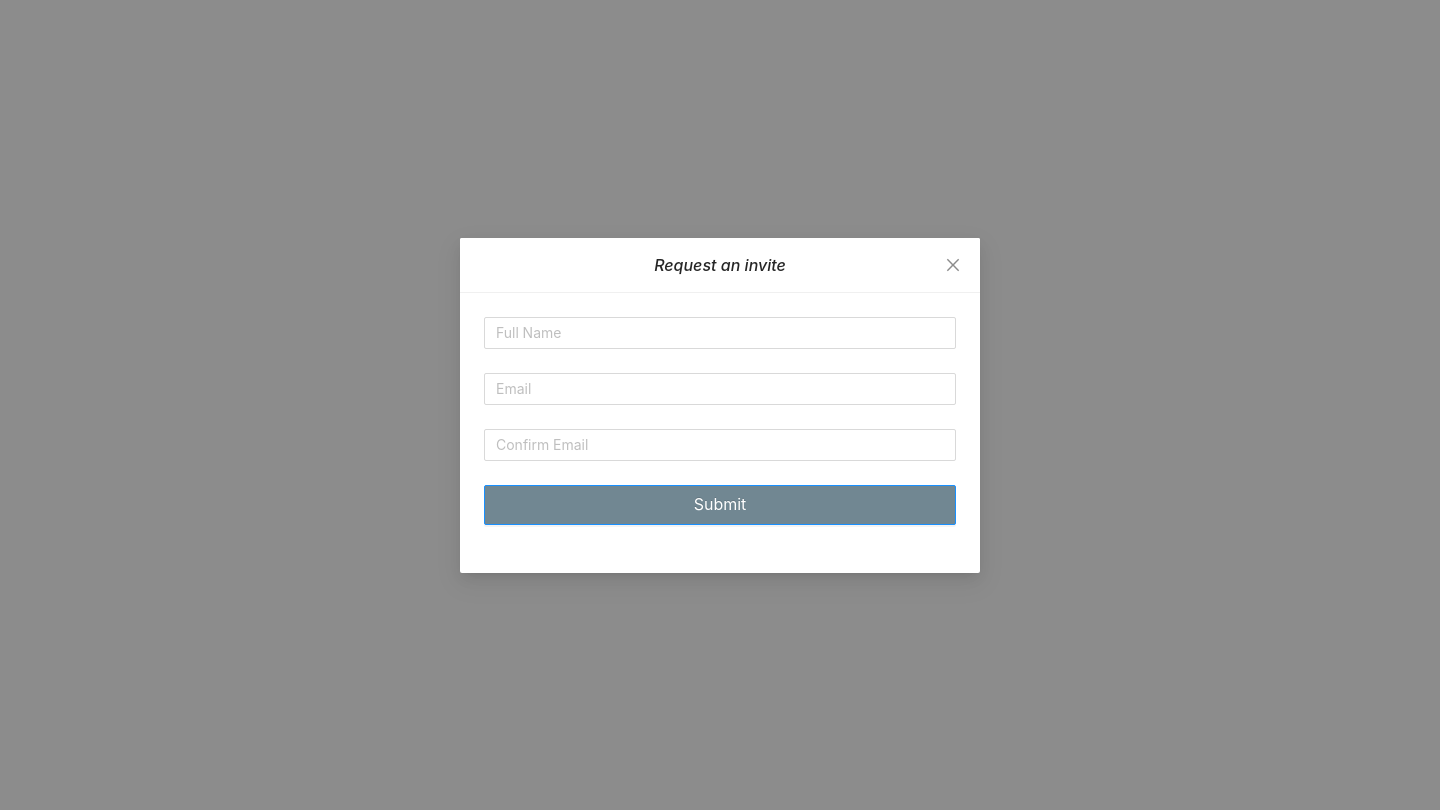
it: From Modal test › error message display - invalid name
Type "mockName" into the field with test id "fullname-input" at (720,332), box [484,316,956,348]
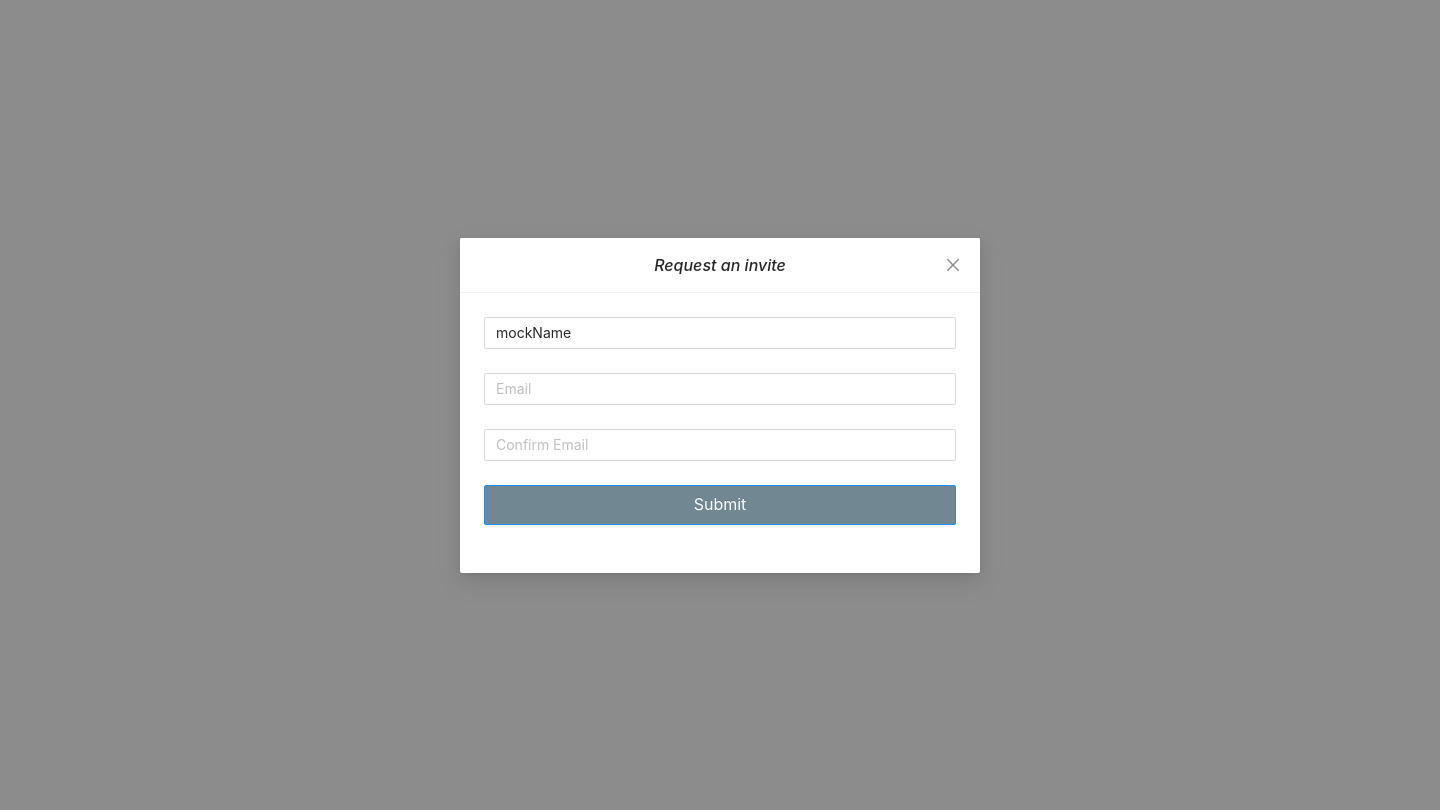
Type "mockEmailA@email.com" into the field with test id "email-input" at (720,388), box [484,372,956,404]
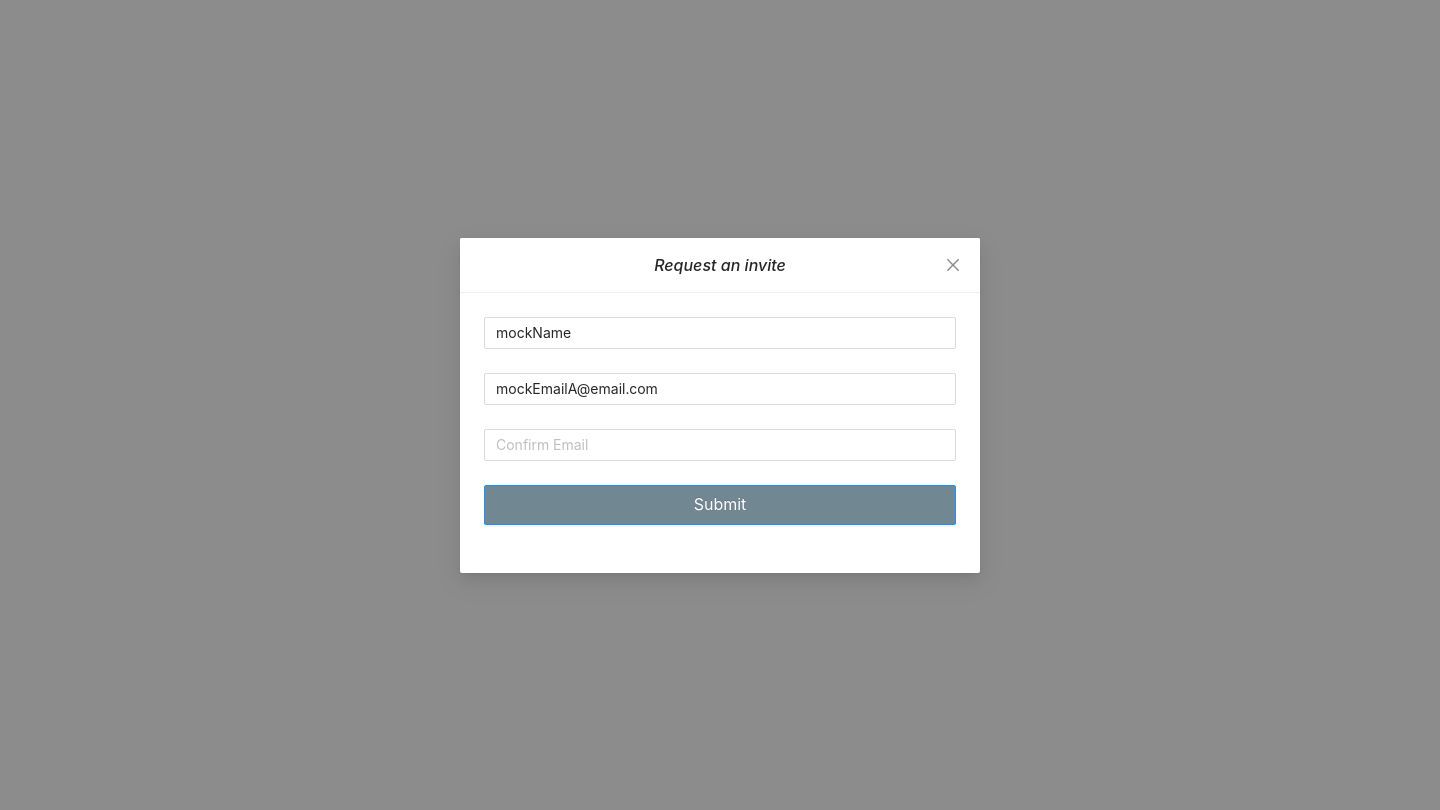
Type "mockEmailA@email.com" into the field with test id "confirm-input" at (720,444), box [484,428,956,460]
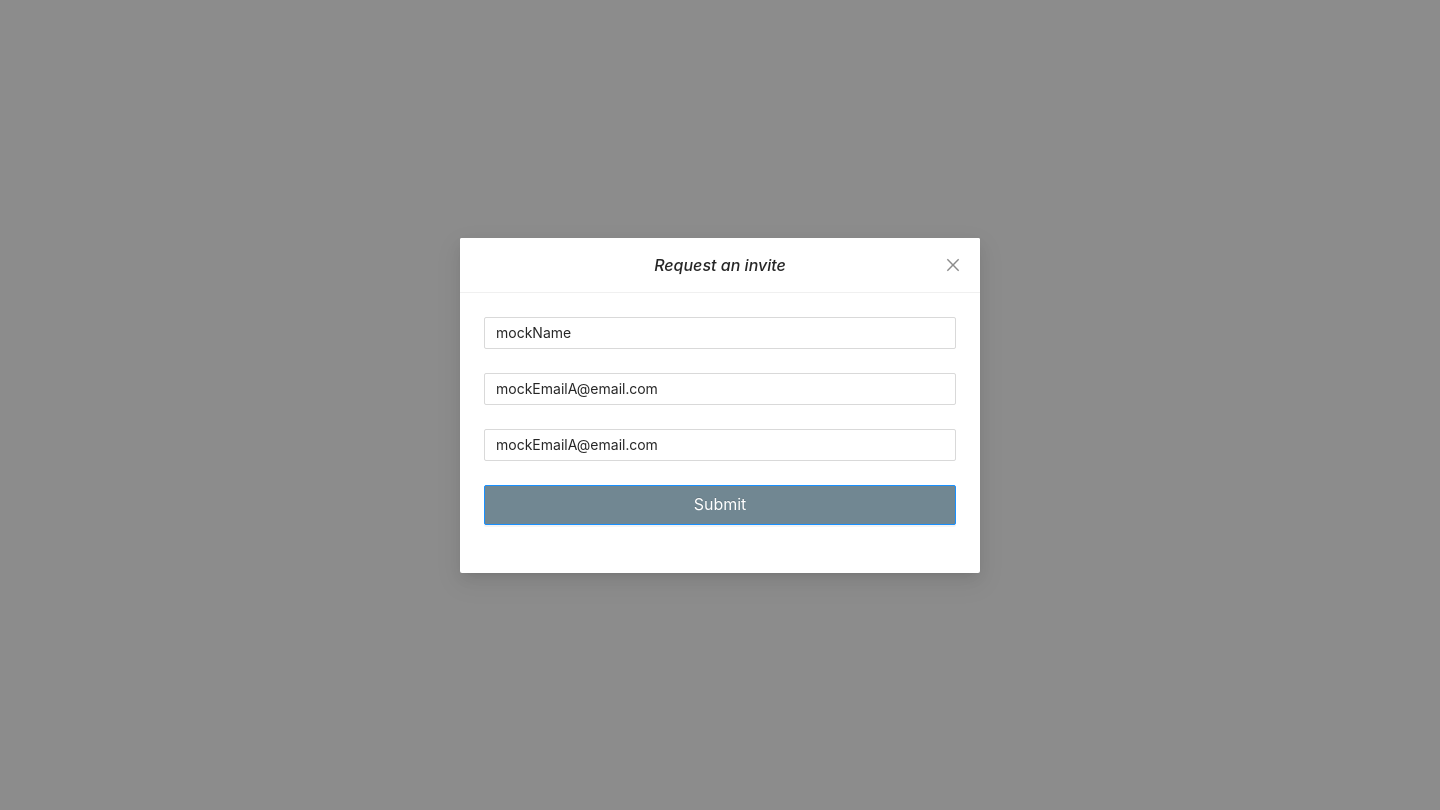
Replace the text in the field with test id "fullname-input" with "i" at (720,332), box [484,316,956,348]
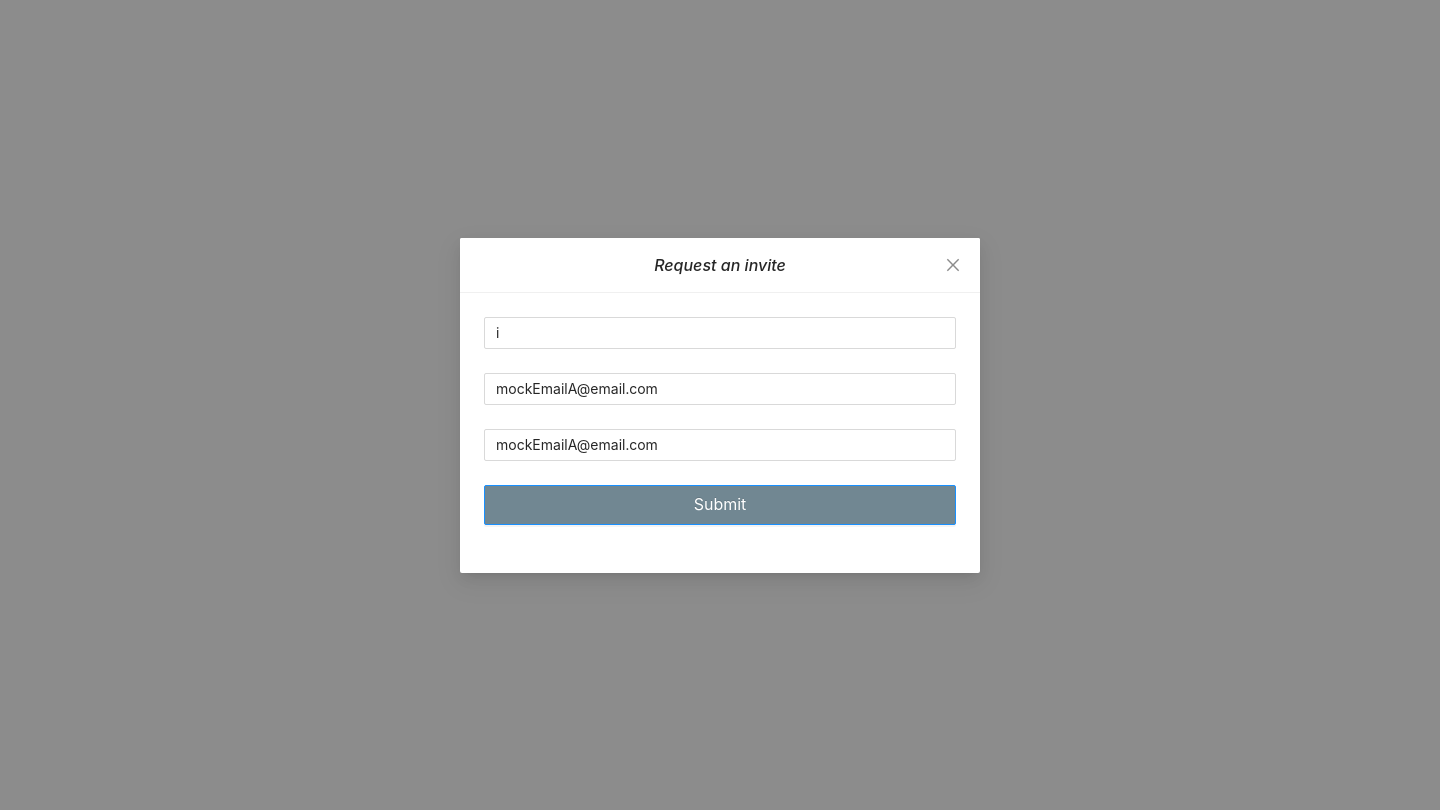
Click the button with test id "submit" at (720,504), box [484,484,956,524]
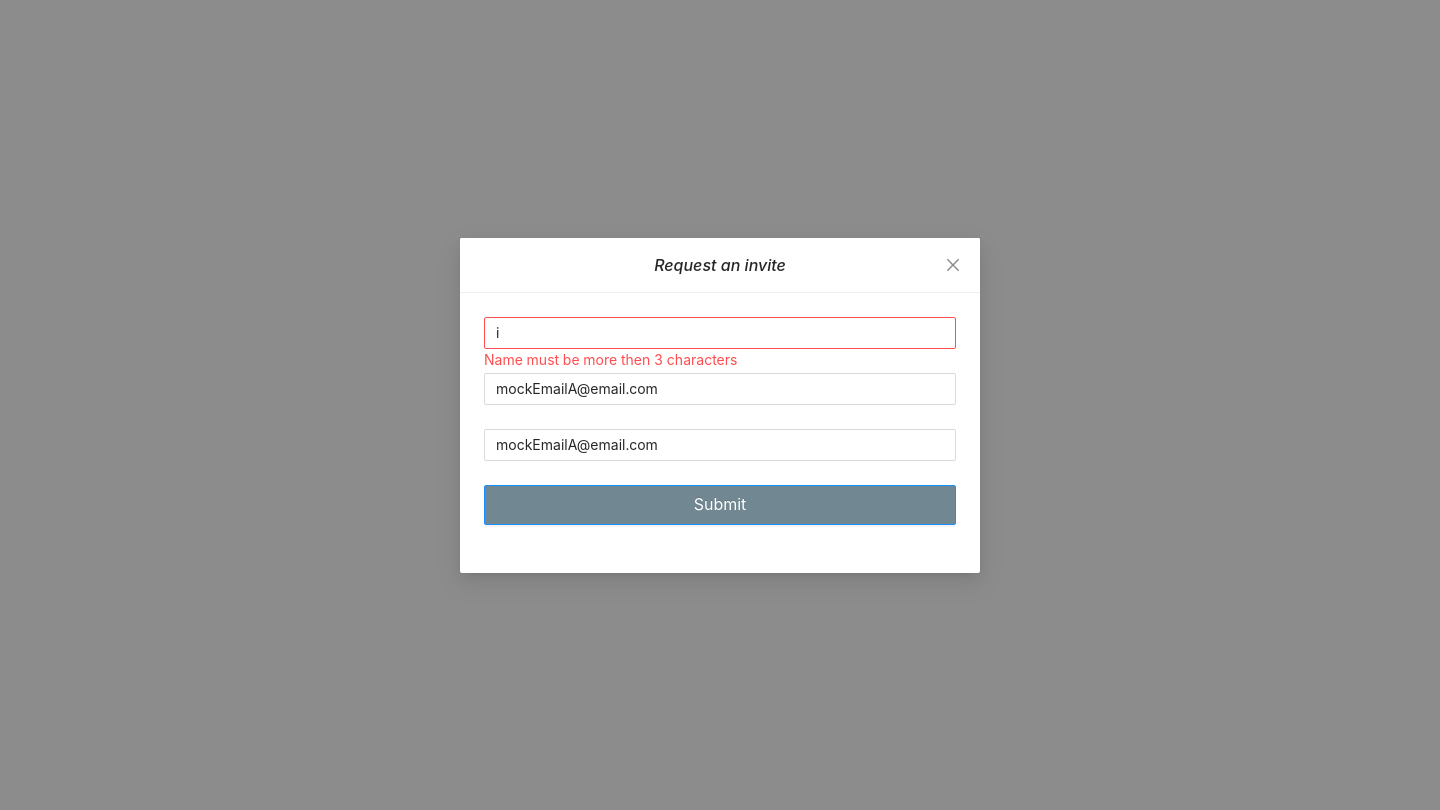
Result: the text "Name must be more then 3 characters" is shown at [484,350,737,368]
